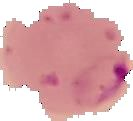parasitized: (25, 16, 133, 111), (70, 50, 130, 107)
